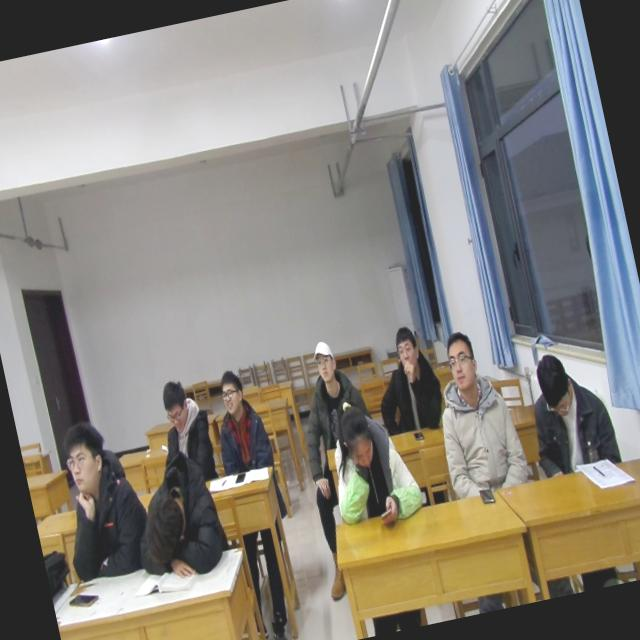bow: (116, 433, 238, 588), (314, 384, 428, 536)
down: (524, 341, 580, 422), (332, 394, 382, 476), (153, 373, 197, 439)
lookup: (54, 413, 115, 505), (435, 324, 484, 396), (386, 316, 426, 377), (210, 359, 250, 416), (304, 331, 340, 386)
sit: (416, 319, 534, 505), (40, 408, 161, 588), (516, 338, 624, 482), (361, 316, 451, 443), (286, 334, 374, 452), (142, 372, 223, 490), (203, 362, 276, 476)
